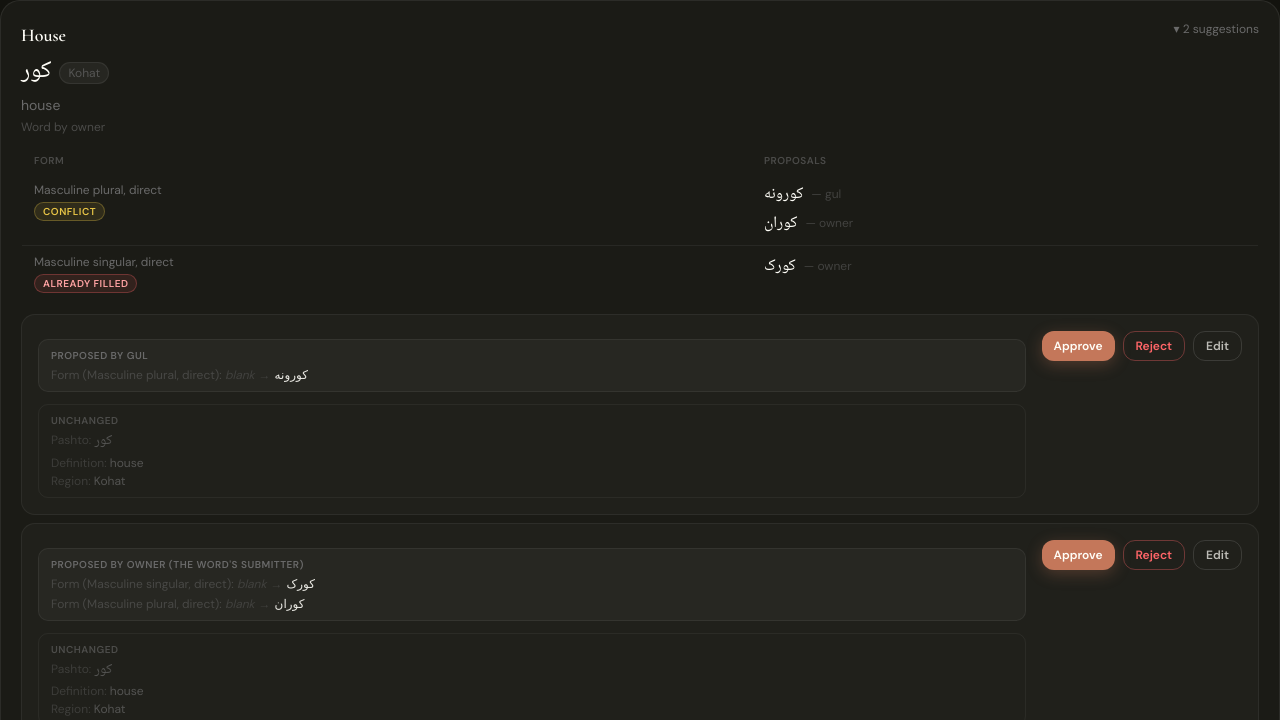
it: Suggestions queue grouped by word › collapses and expands the word
Click the button "House کور Kohat house Word by owner ▾ 2 suggestions": (44, 35) [21,21,1259,135]
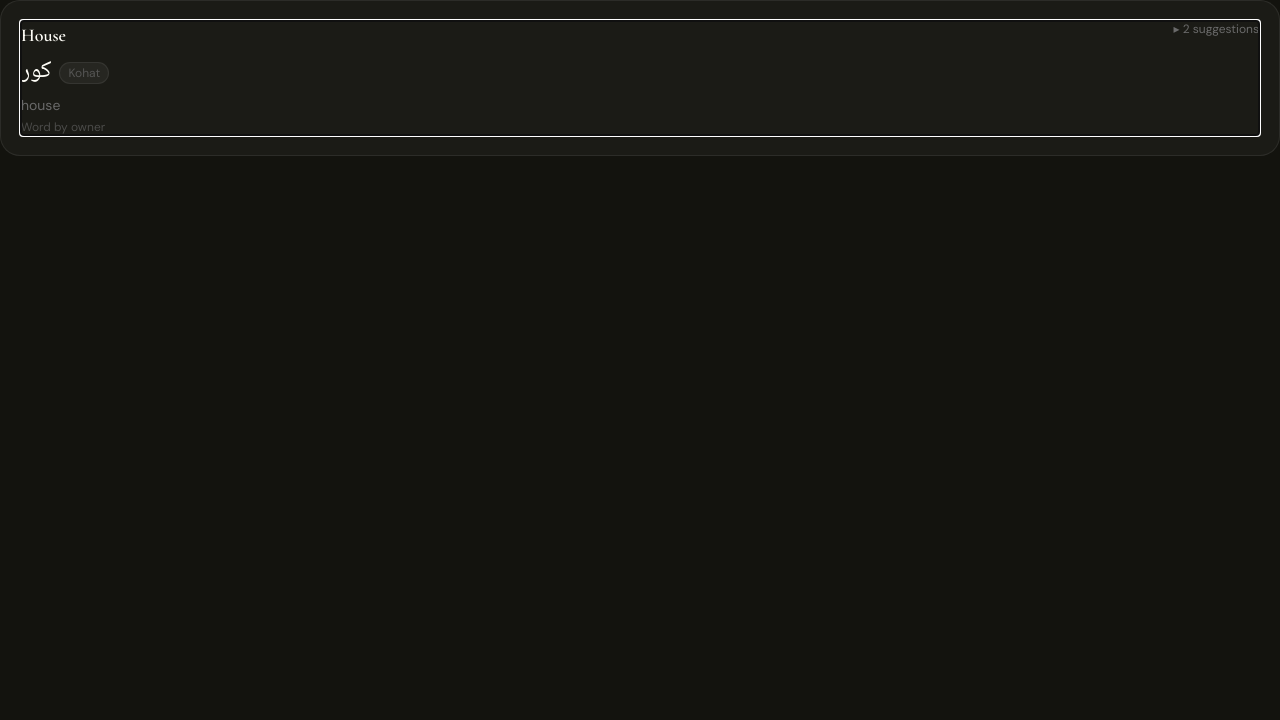
Check: the table is gone
